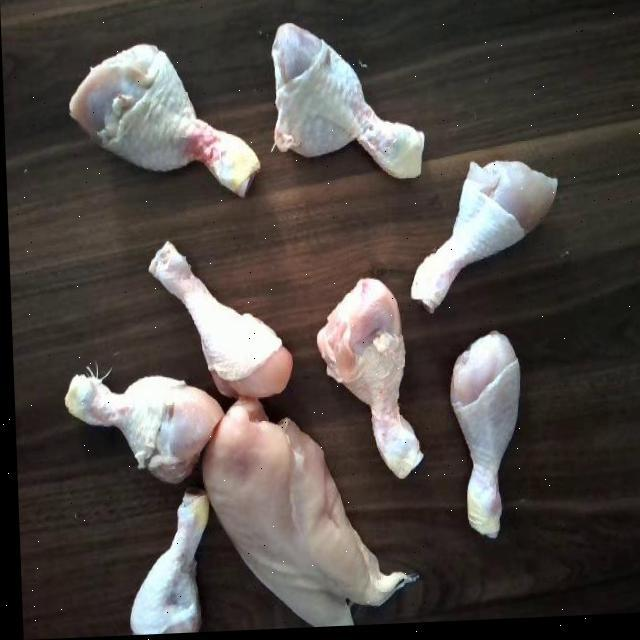breast: (196, 396, 390, 631)
leg: (78, 32, 255, 213), (261, 15, 426, 196), (394, 145, 566, 313), (136, 230, 290, 406), (309, 276, 425, 485), (59, 354, 220, 484), (445, 332, 529, 552), (115, 478, 212, 636)
